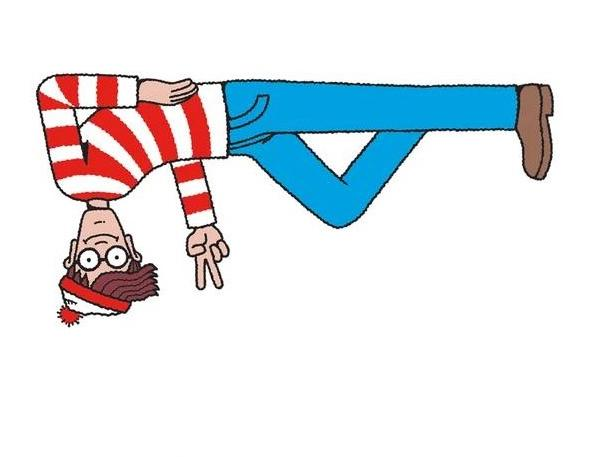waldos: (35, 71, 558, 329)
